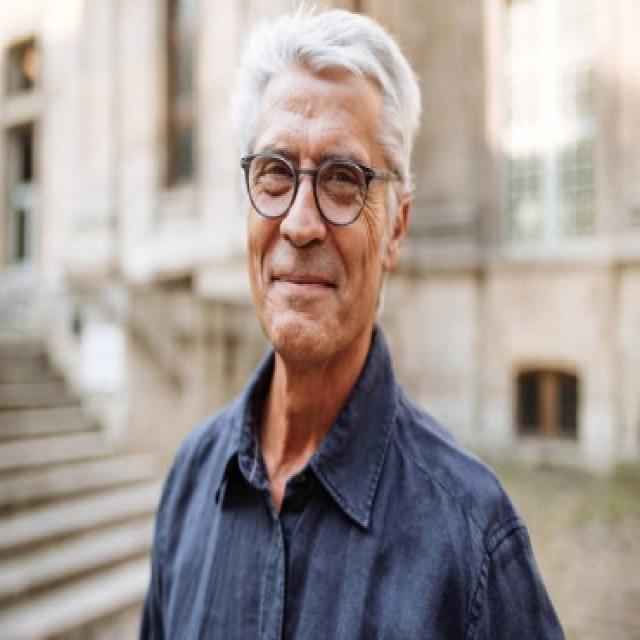adult: (133, 6, 557, 640)
